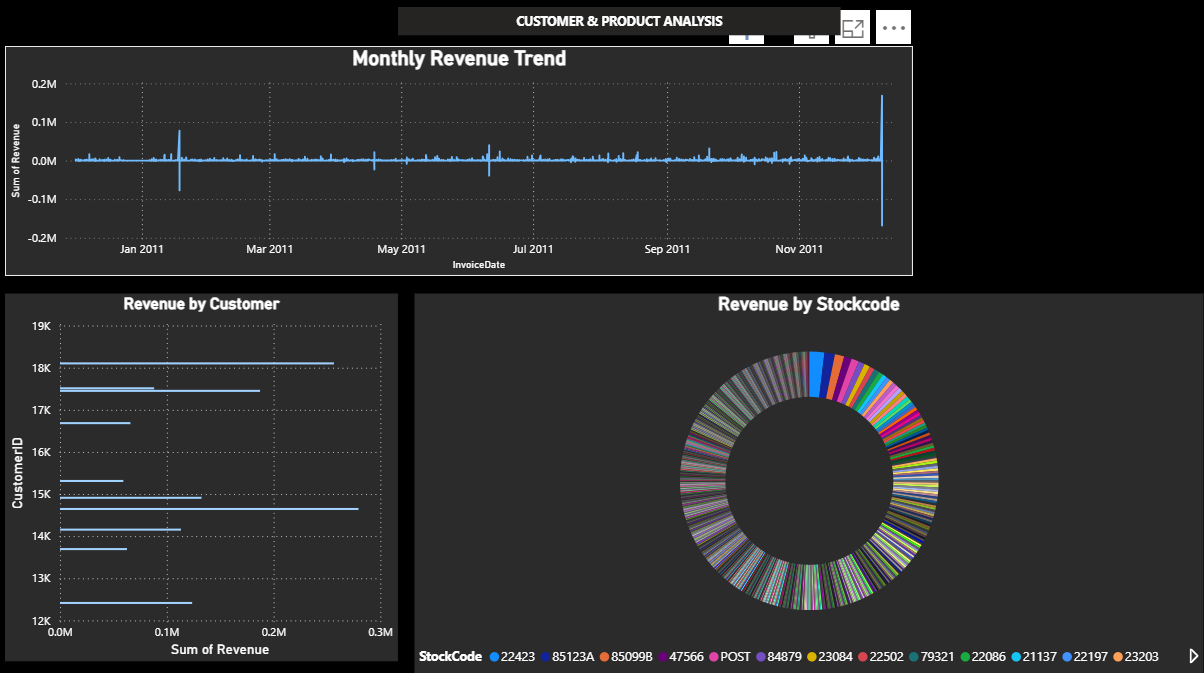

Layout of this report page (visuals, bound fields, positions):
{"tool":"powerbi","page":{"name":"Page 2","canvas":[1280,720],"ordinal":1},"visuals":[{"type":"lineChart","title":"Monthly Revenue Trend","fields":{"Category":["cleaned_online_retail.InvoiceDate"],"Y":["Sum(cleaned_online_retail.Revenue)"]},"box":[9.5,54.1,962.3,243.4],"z":0},{"type":"clusteredBarChart","title":"Revenue by Customer","fields":{"Category":["cleaned_online_retail.CustomerID"],"Y":["Sum(cleaned_online_retail.Revenue)"]},"box":[9.5,316.5,416.7,389.7],"z":1},{"type":"donutChart","title":"Revenue by Stockcode","fields":{"Category":["cleaned_online_retail.StockCode"],"Y":["Sum(cleaned_online_retail.Revenue)"]},"box":[443.8,316.5,836.7,404],"z":2},{"type":"textbox","box":[426.3,12.7,469.2,30.2],"z":3}]}

Visuals, with their boxes on the page's 1280x720 design canvas (x1, y1, x2, y2). These are canvas units, not pixel positions in the 1204x673 screenshot, which may show the page scaled, cropped or inside an application window:
"Monthly Revenue Trend" lineChart: 10:54:972:298
"Revenue by Customer" clusteredBarChart: 10:316:426:706
"Revenue by Stockcode" donutChart: 444:316:1280:720
textbox: 426:13:896:43
